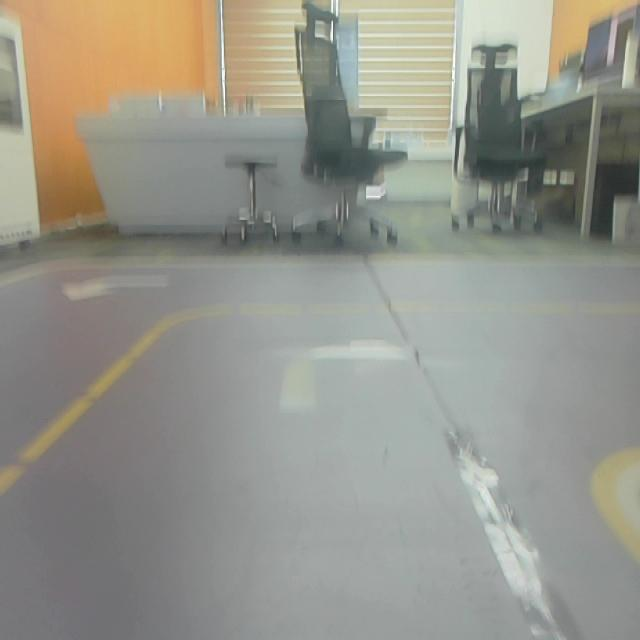left_lane: (0, 314, 175, 495)
right_lane: (590, 479, 640, 567)
